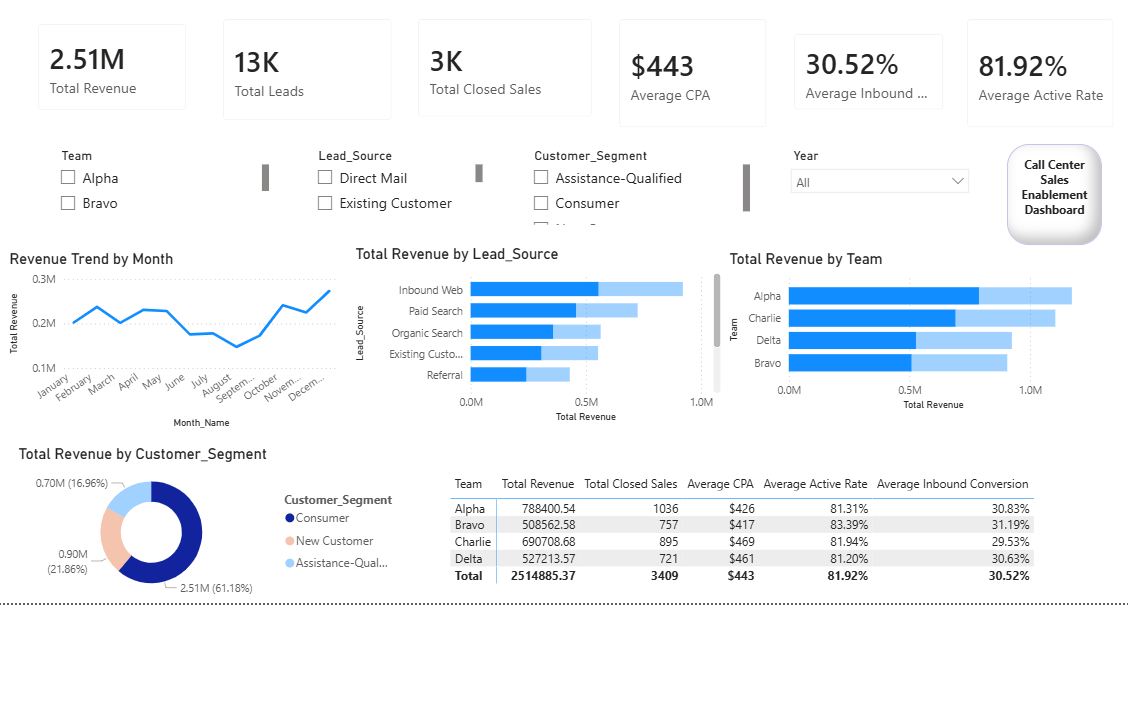

The page's visual inventory and layout, read from the dashboard file:
{"tool":"powerbi","page":{"name":"Page 1","canvas":[1280,720],"ordinal":0},"visuals":[{"type":"group","id":"g1","title":"Group 1","box":[30.4,44,1246.9,156.8],"z":0},{"type":"cardVisual","fields":{"Data":["Measures (2).Total Revenue"]},"box":[30.4,49.1,201.3,131],"z":0,"group":"g1"},{"type":"slicer","fields":{"Values":["Dim_Team.Team"]},"box":[60.9,201.9,252,87.1],"z":0},{"type":"lineChart","title":"Revenue Trend by Month","fields":{"Category":["Dim_Date.Month_Name"],"Y":["Measures (2).Total Revenue"]},"box":[10.1,321.4,381.2,206.4],"z":0},{"type":"donutChart","fields":{"Category":["Dim_Customer_Segment.Customer_Segment"],"Y":["Measures (2).Total Revenue"]},"box":[20.3,541.3,438.7,178.2],"z":0},{"type":"cardVisual","fields":{"Data":["Measures (2).Total Leads"]},"box":[238.5,44,224.4,148.9],"z":1000,"group":"g1"},{"type":"slicer","fields":{"Values":["Dim_Lead_Source.Lead_Source"]},"box":[350.9,201.9,203.4,91.5],"z":1000},{"type":"clusteredBarChart","fields":{"Category":["Dim_Lead_Source.Lead_Source"],"Y":["Measures (2).Total Revenue"]},"box":[400.4,315.8,421.8,205.3],"z":1000},{"type":"pivotTable","fields":{"Rows":["Dim_Team.Team"],"Values":["Measures (2).Total Revenue","Measures (2).Total Closed Sales","Measures (2).Average CPA","Measures (2).Average Active Rate","Measures (2).Average Inbound Conversion"]},"box":[507.5,569.5,686.8,150],"z":1000},{"type":"cardVisual","fields":{"Data":["Measures (2).Total Closed Sales"]},"box":[458.4,44,230.1,144.4],"z":2000,"group":"g1"},{"type":"slicer","fields":{"Values":["Dim_Customer_Segment.Customer_Segment"]},"box":[594.1,201.9,260.8,96],"z":2000},{"type":"clusteredBarChart","fields":{"Category":["Dim_Team.Team"],"Y":["Measures (2).Total Revenue"]},"box":[822.1,321.4,417.3,186.1],"z":2000},{"type":"cardVisual","fields":{"Data":["Measures (2).Average CPA"]},"box":[685.1,44,200.7,156.8],"z":3000,"group":"g1"},{"type":"slicer","fields":{"Values":["Dim_Date.Year"]},"box":[886.4,201.9,221,103.8],"z":3000},{"type":"textbox","box":[1140.2,201.9,107.1,113.9],"z":3001},{"type":"cardVisual","fields":{"Data":["Measures (2).Average Inbound Conversion"]},"box":[882.5,60.9,203,119.5],"z":4000,"group":"g1"},{"type":"cardVisual","fields":{"Data":["Measures (2).Average Active Rate"]},"box":[1077.9,44,199.4,156.7],"z":5000,"group":"g1"}]}

Visuals, with their boxes on the page's 1280x720 design canvas (x1, y1, x2, y2). These are canvas units, not pixel positions in the 1128x705 screenshot, which may show the page scaled, cropped or inside an application window:
"Group 1" group: locate(30, 44, 1277, 201)
cardVisual - Measures (2).Total Revenue: locate(30, 49, 232, 180)
slicer - Dim_Team.Team: locate(61, 202, 313, 289)
"Revenue Trend by Month" lineChart: locate(10, 321, 391, 528)
donutChart - Dim_Customer_Segment.Customer_Segment x Measures (2).Total Revenue: locate(20, 541, 459, 720)
cardVisual - Measures (2).Total Leads: locate(238, 44, 463, 193)
slicer - Dim_Lead_Source.Lead_Source: locate(351, 202, 554, 293)
clusteredBarChart - Dim_Lead_Source.Lead_Source x Measures (2).Total Revenue: locate(400, 316, 822, 521)
pivotTable - Dim_Team.Team x Measures (2).Total Revenue: locate(508, 570, 1194, 720)
cardVisual - Measures (2).Total Closed Sales: locate(458, 44, 688, 188)
slicer - Dim_Customer_Segment.Customer_Segment: locate(594, 202, 855, 298)
clusteredBarChart - Dim_Team.Team x Measures (2).Total Revenue: locate(822, 321, 1239, 508)
cardVisual - Measures (2).Average CPA: locate(685, 44, 886, 201)
slicer - Dim_Date.Year: locate(886, 202, 1107, 306)
textbox: locate(1140, 202, 1247, 316)
cardVisual - Measures (2).Average Inbound Conversion: locate(882, 61, 1086, 180)
cardVisual - Measures (2).Average Active Rate: locate(1078, 44, 1277, 201)
